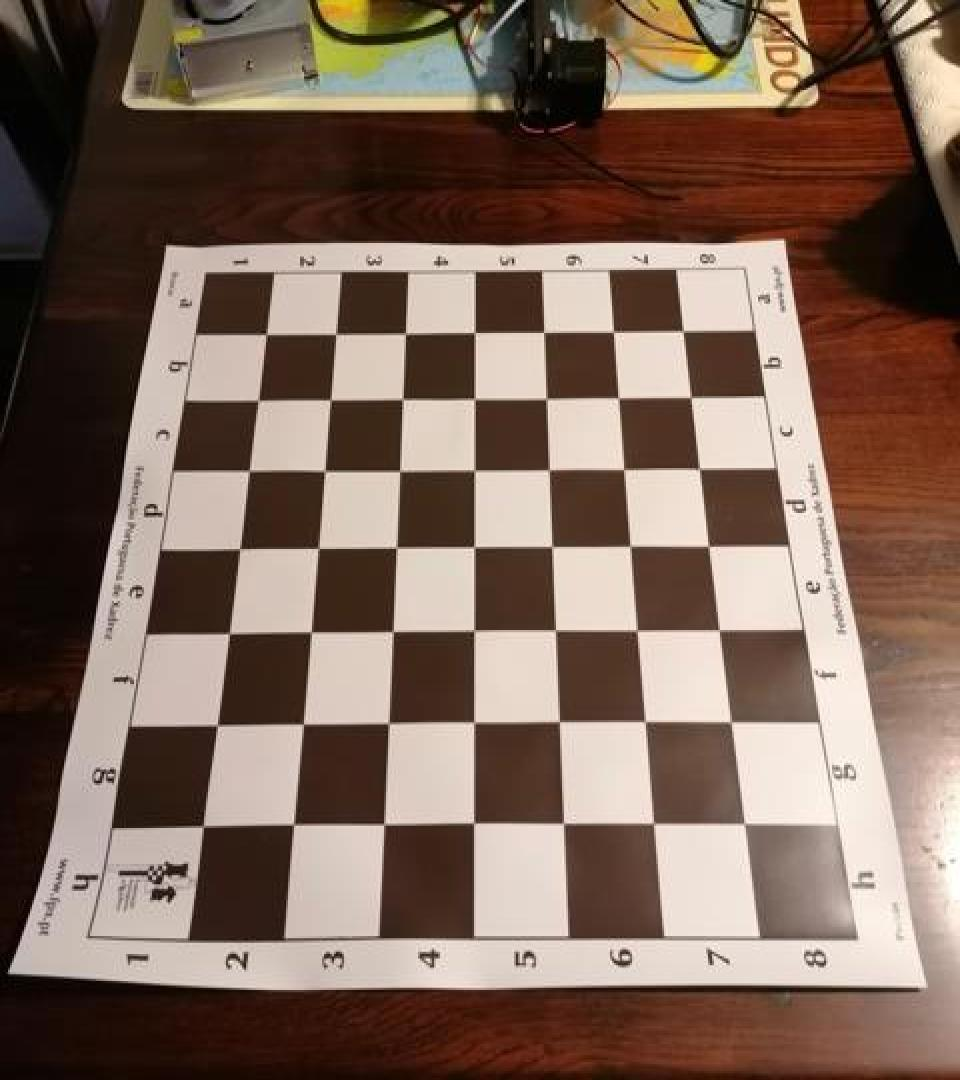xcorner: (275, 805, 307, 842), (184, 805, 216, 842), (669, 313, 701, 349), (599, 314, 631, 350), (529, 314, 561, 350), (459, 315, 491, 351), (389, 316, 421, 352), (319, 316, 351, 352), (250, 317, 282, 353), (678, 378, 710, 414), (604, 378, 636, 414), (531, 379, 563, 415), (459, 380, 491, 416), (386, 380, 418, 416), (313, 382, 345, 418), (241, 382, 273, 418), (686, 449, 718, 485), (610, 449, 642, 485), (534, 450, 566, 486), (458, 451, 490, 487), (383, 451, 415, 487), (307, 452, 339, 488), (232, 452, 264, 488), (696, 526, 728, 562), (617, 526, 649, 562), (537, 526, 569, 562), (458, 528, 490, 564), (379, 528, 411, 564), (300, 529, 332, 565), (221, 530, 253, 566), (707, 610, 739, 646), (624, 610, 656, 646), (540, 611, 572, 647), (458, 611, 490, 647), (375, 612, 407, 648), (292, 612, 324, 648), (210, 613, 242, 649), (718, 702, 750, 738), (631, 702, 663, 738), (544, 703, 576, 739), (457, 703, 489, 739), (370, 703, 402, 739), (284, 704, 316, 740), (198, 704, 230, 740), (731, 803, 763, 839), (640, 803, 672, 839), (548, 804, 580, 840), (457, 804, 489, 840), (366, 804, 398, 840)
